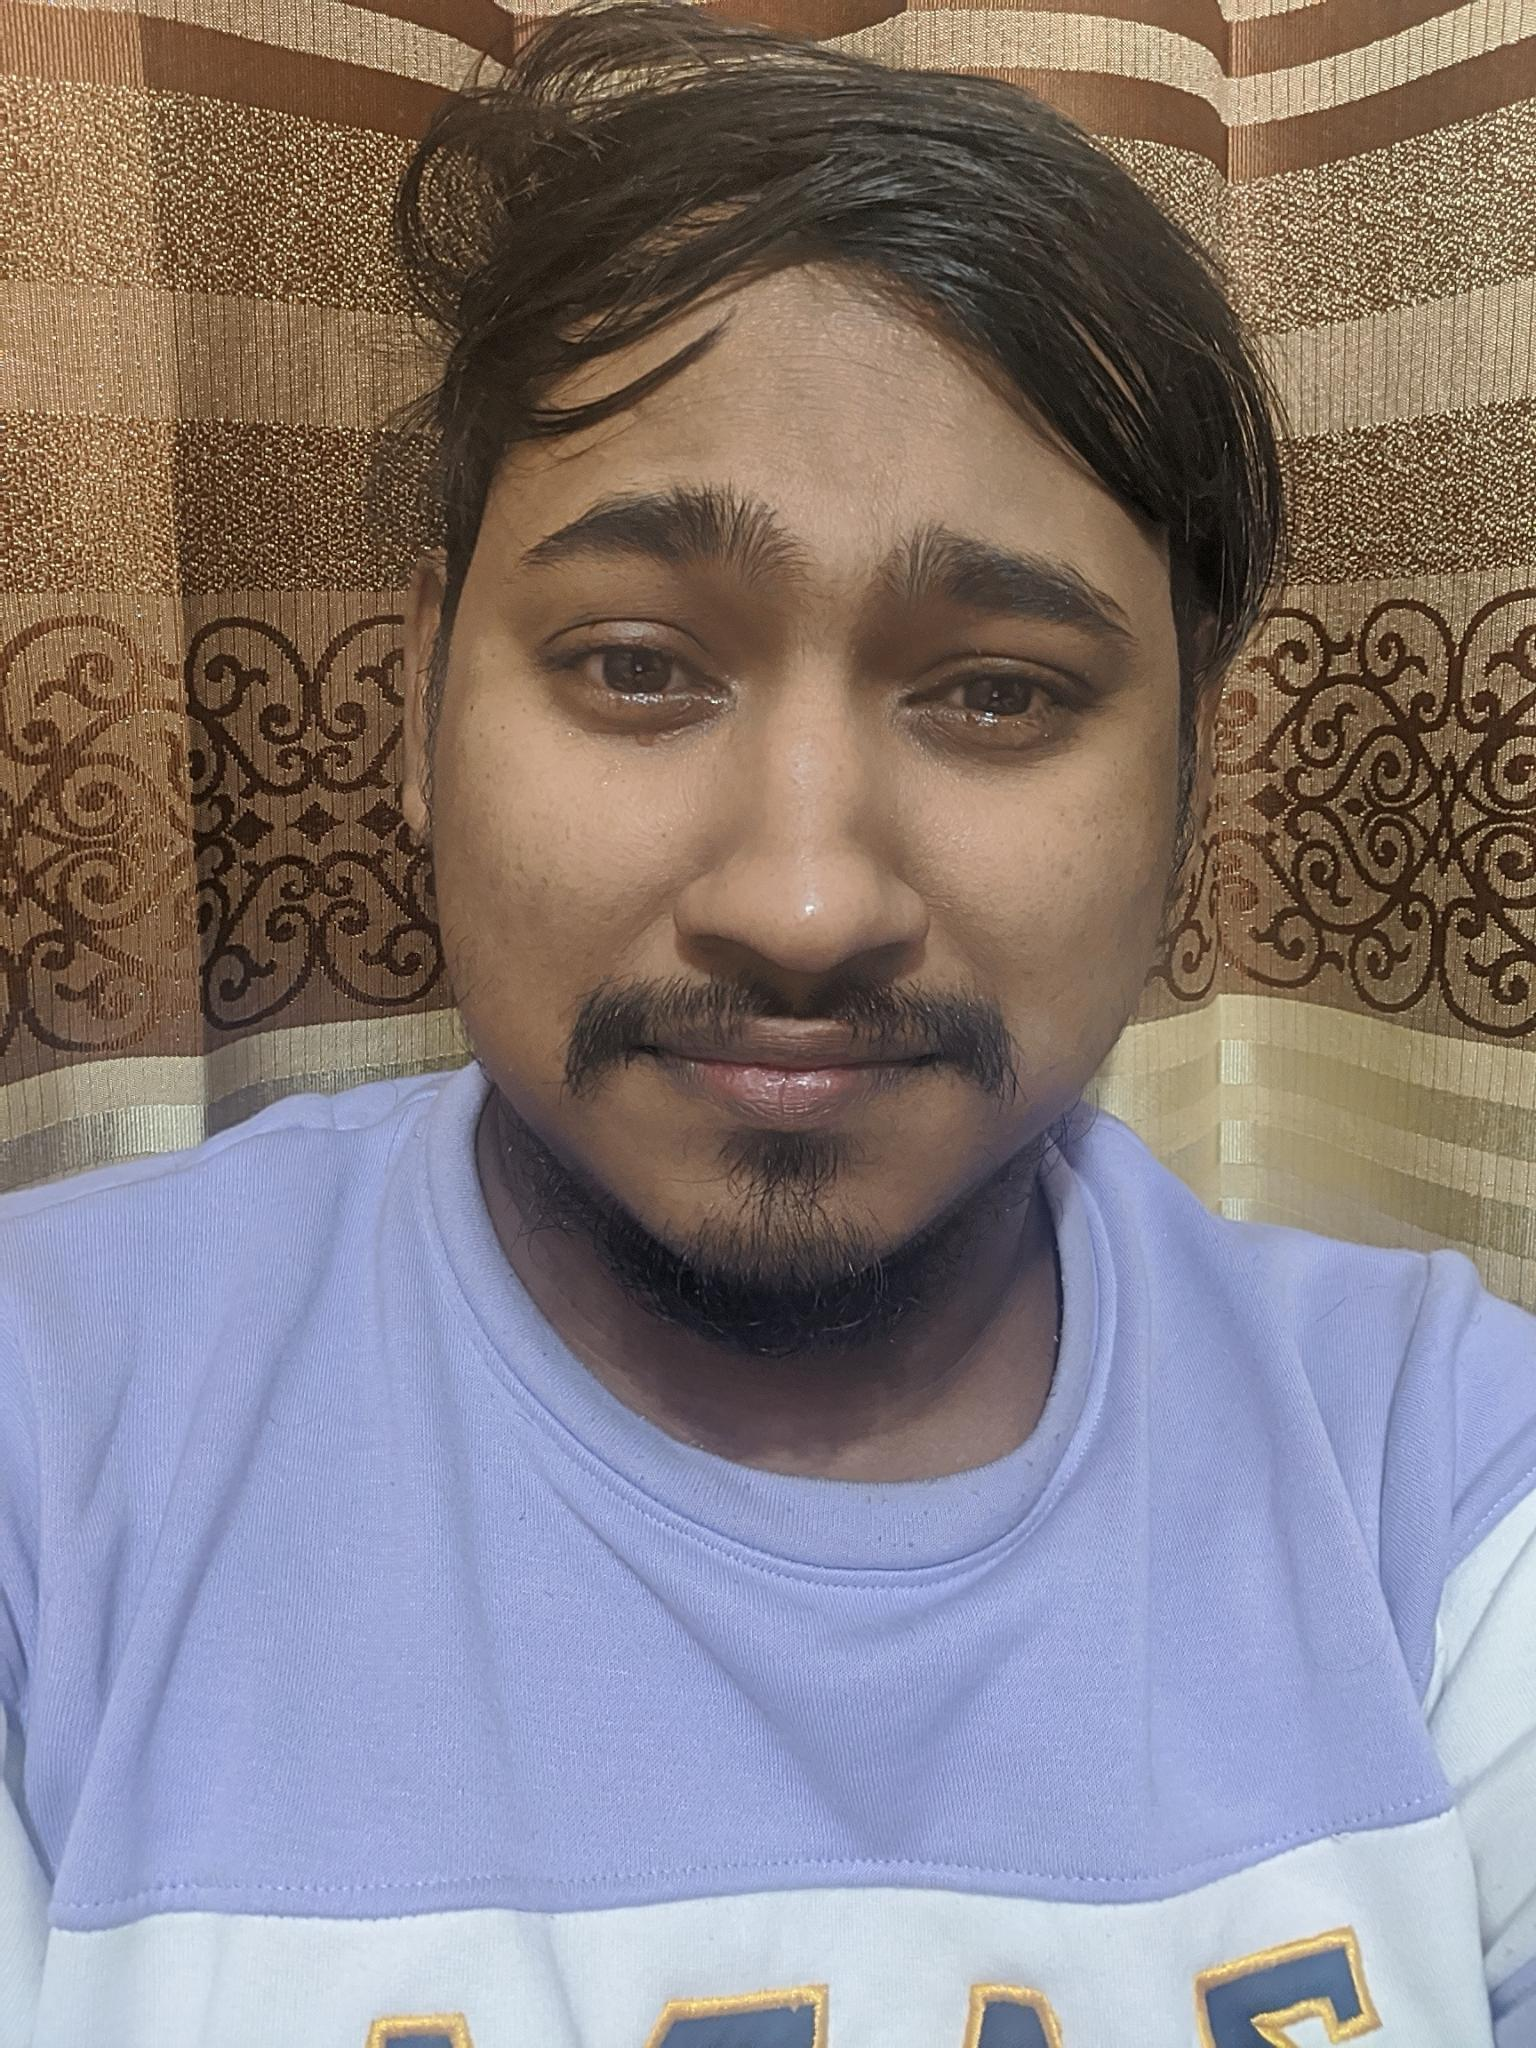Sad: (468, 397, 1173, 1293)
